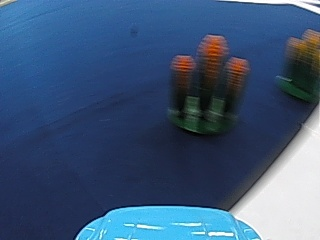corn: (167, 38, 249, 137), (277, 27, 318, 102)
